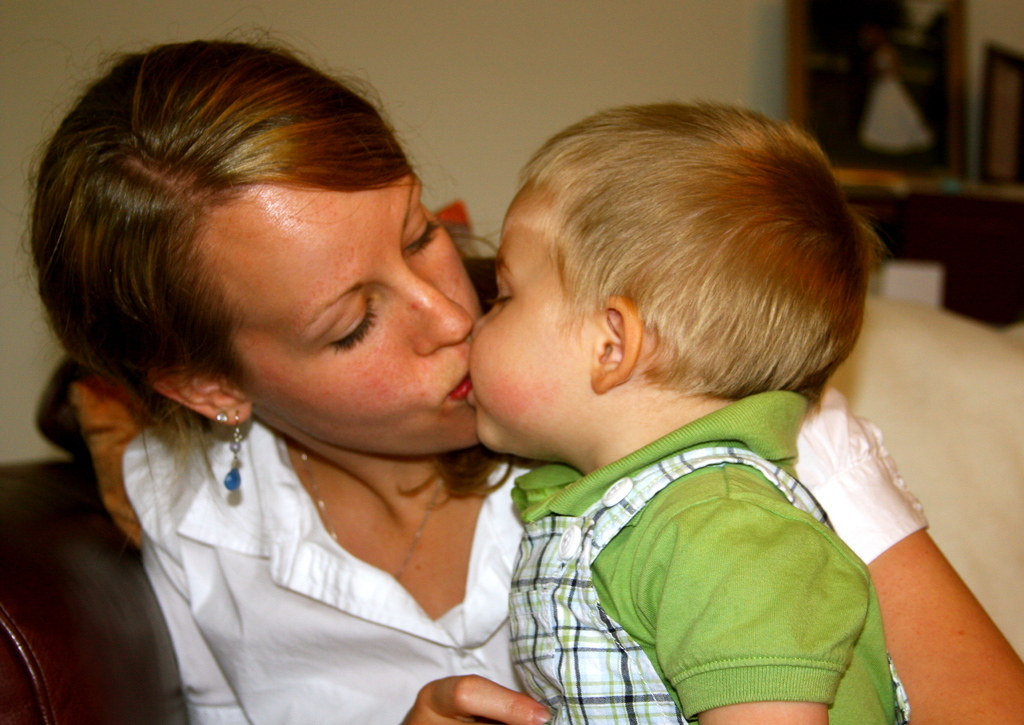Human_hand: (788, 381, 924, 559), (394, 671, 553, 724)
